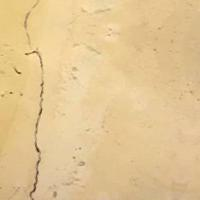crack: (14, 2, 76, 199)
